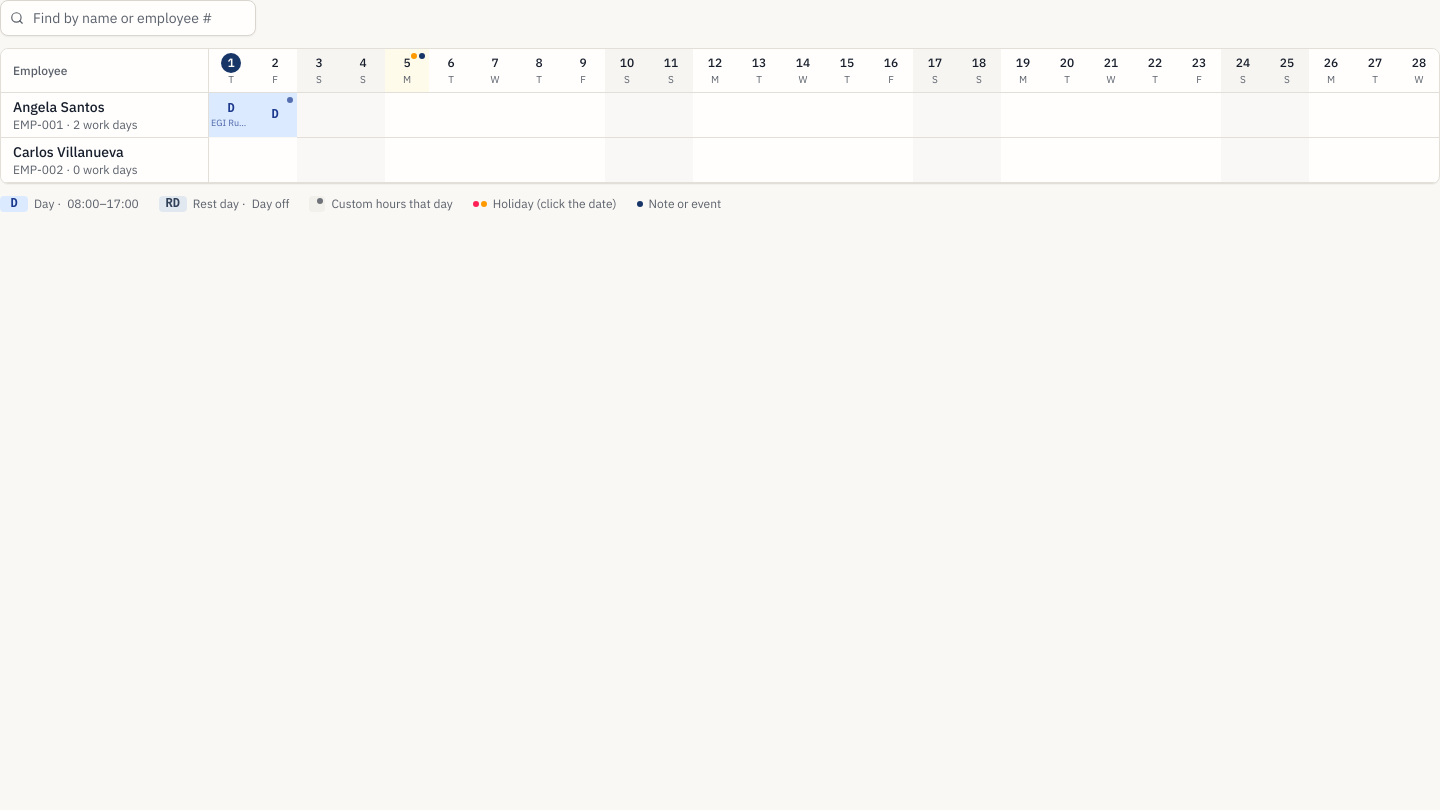
Scenario: ScheduleGrid › day details › shows the day read-only without edit permission, hiding company events without access
The image size is (1440, 810).
Click the button with test id "schedule-day-2026-10-05": point(407, 70) [385,49,429,92]
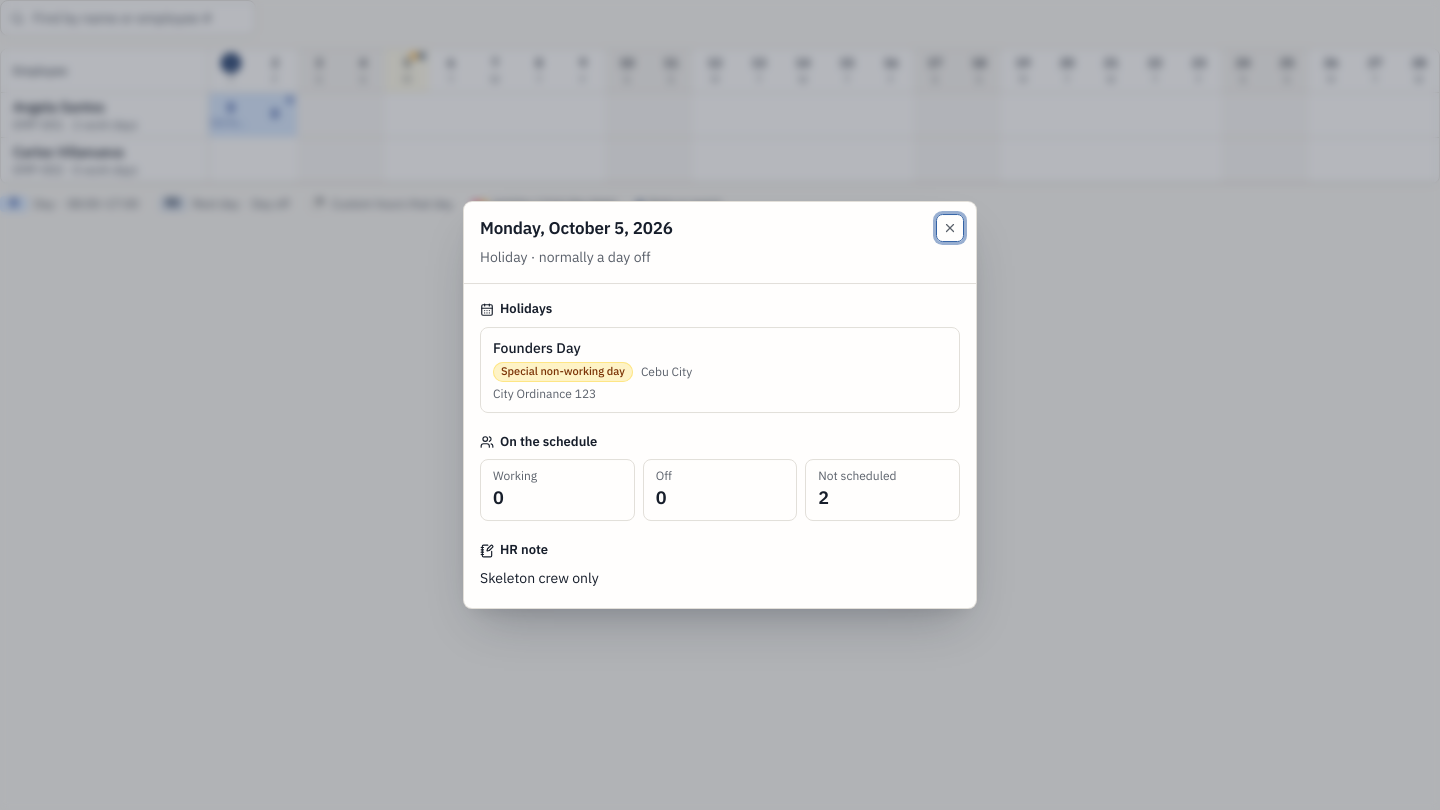
Expected: the text "Skeleton crew only" is shown, [480,569,599,587]
